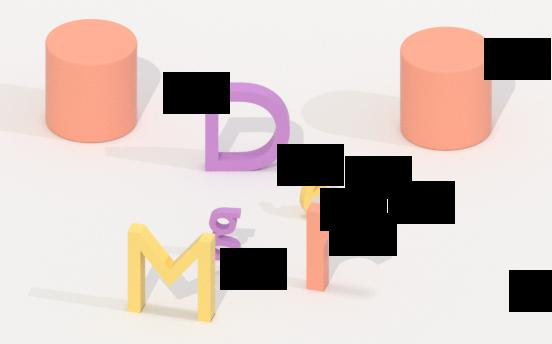6: (296, 159, 337, 219)
M-hoa: (122, 216, 220, 329)
R: (301, 199, 379, 299)
d: (200, 75, 292, 179)
g: (206, 205, 244, 264)
tru: (397, 23, 495, 158), (42, 18, 141, 148)
